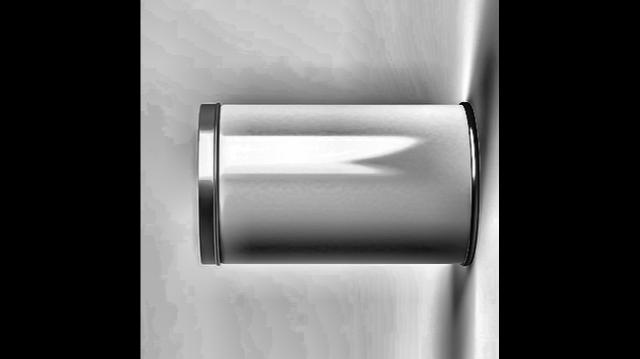can: (182, 74, 490, 283)
